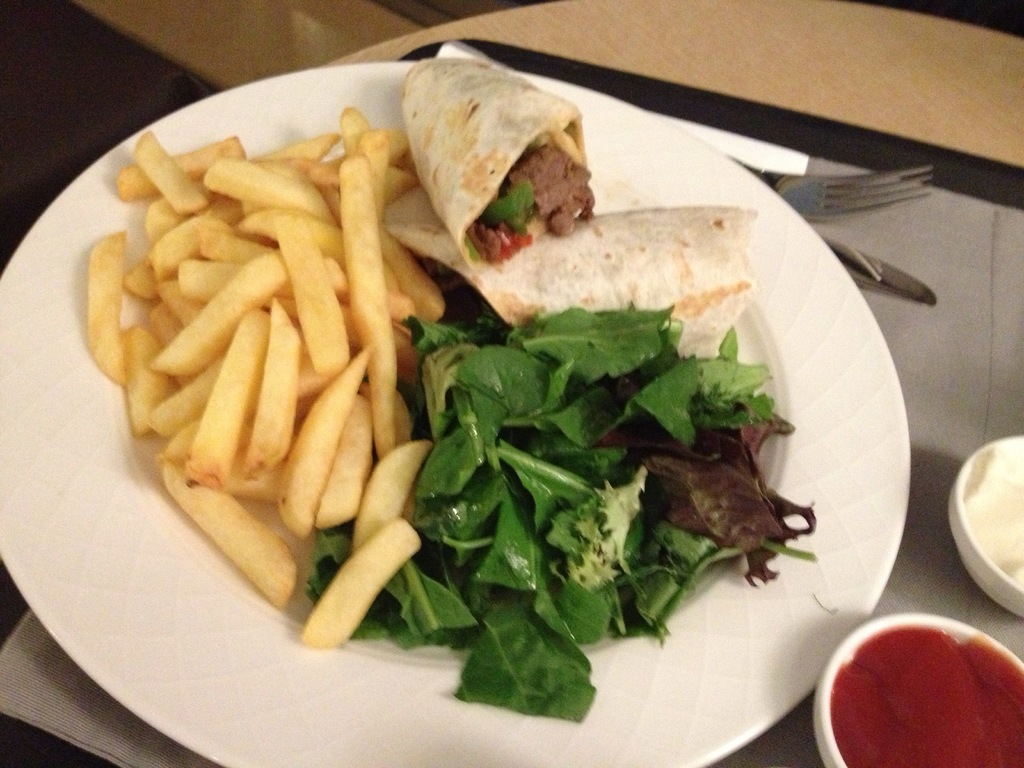French fries: (74, 95, 453, 658)
